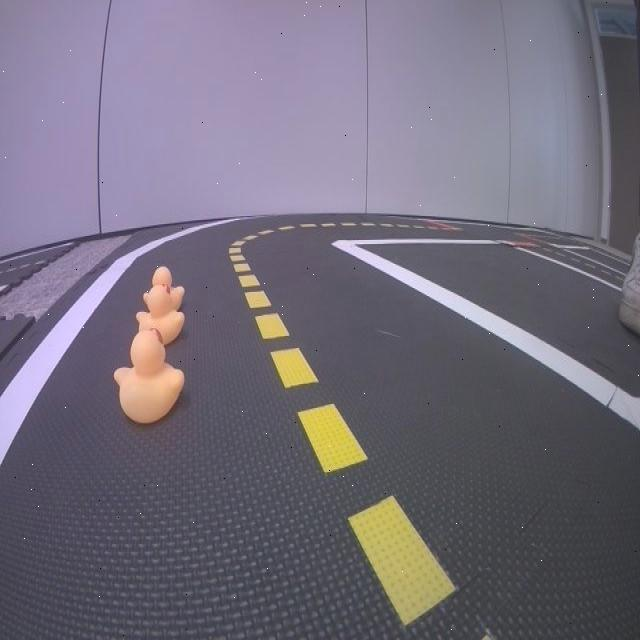duckie: (114, 327, 188, 428), (134, 286, 185, 344), (148, 268, 184, 302)
